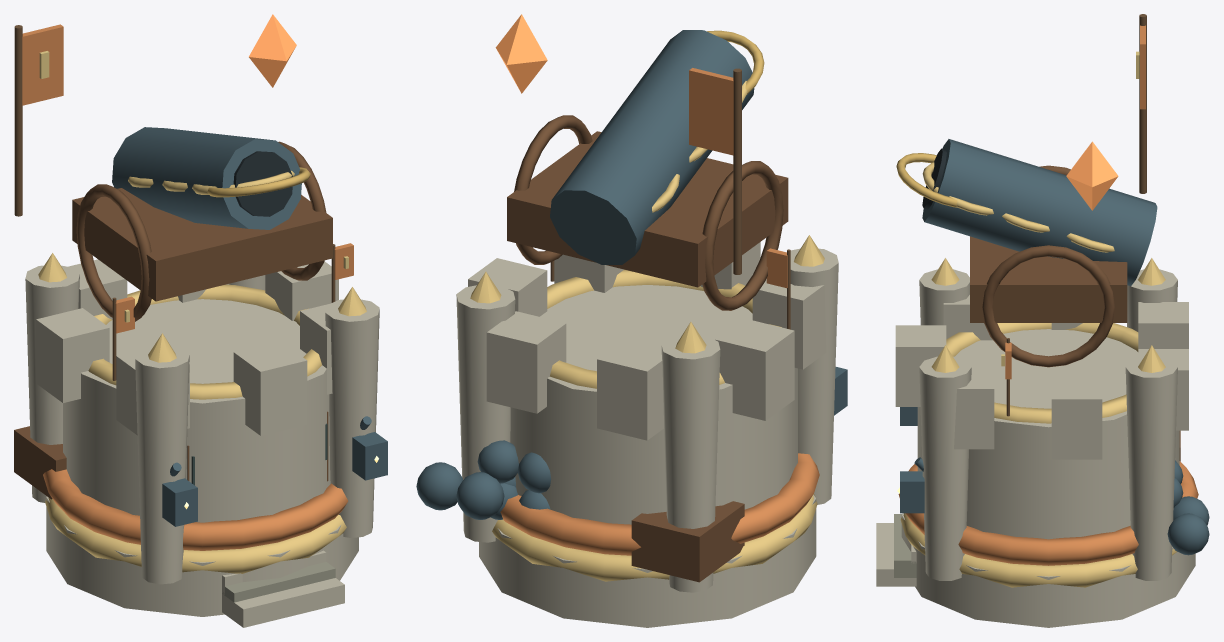
The model's file is tower-cannon-3-0.glb.
The picture shows the model from 3 angles, left to right: view 1: azimuth 30°, elevation 25°; view 2: azimuth 150°, elevation 25°; view 3: azimuth 270°, elevation 25°; orthographic projection. The views are drawn at different scales.
Visible parts, largest first — view 1: Foundation, Turret, cannon-L3-0; view 2: Foundation, Turret, cannon-L3-0; view 3: Foundation, Turret, cannon-L3-0.
Boxes of the visible parts, box(x1,y1,x2,y2) form: Foundation: box(14, 24, 387, 627); Turret: box(72, 14, 332, 321); cannon-L3-0: box(46, 496, 358, 616); Foundation: box(416, 68, 847, 592); Turret: box(495, 14, 788, 310); cannon-L3-0: box(479, 494, 816, 627); Foundation: box(876, 14, 1209, 587); Turret: box(896, 139, 1157, 367); cannon-L3-0: box(901, 513, 1195, 627).
Size of the model in its own units: 1.72 by 3.09 by 1.91.
